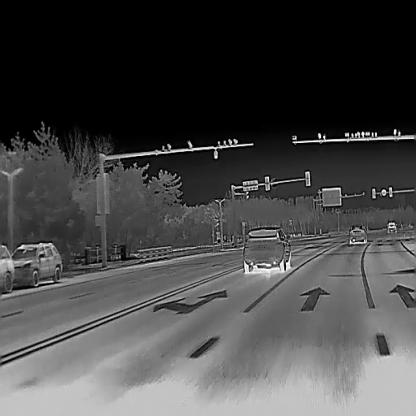car: (10, 242, 62, 287), (243, 226, 291, 274), (0, 244, 14, 292), (349, 224, 368, 244), (387, 221, 396, 232)
